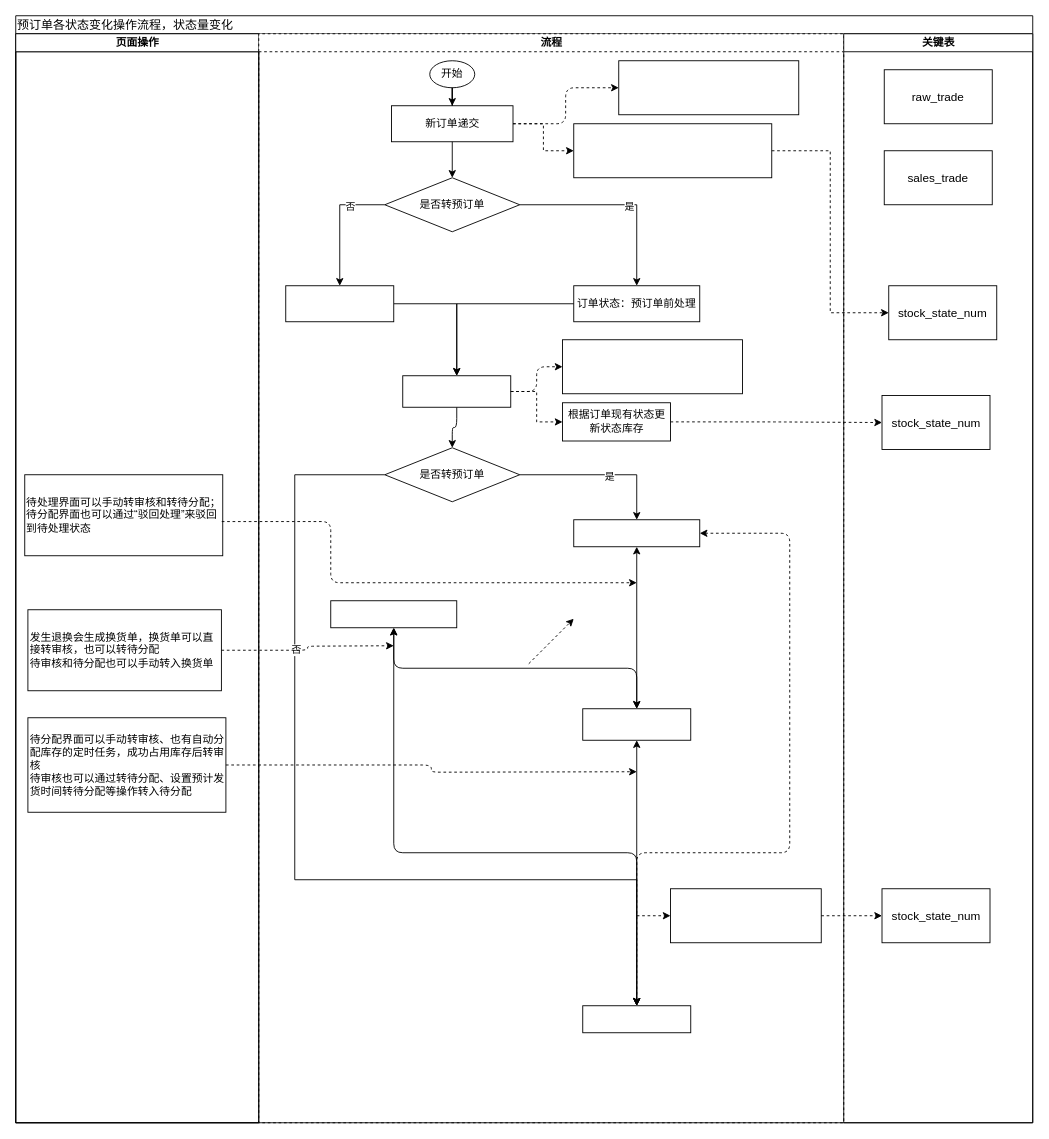
Image size: 1049x1139. Some labels were removed from this diagram. The shapes that lost their labels are listed below. From the top down, each one's centre as x and y in pixels, then its label:
At point (708, 87): "新订单递交中可以选择转预订单 比如设置订单状态、库存不足转预订单".
At point (672, 150): "如果新订单递交后有仓库，并且不是导入的订单和现款销售的订单，则增加对应状态库存，预订单增加预订单的，其余的增加待审核的".
At point (339, 303): "订单状态： 前处理 ( 赠品，合并，拆分 )".
At point (652, 366): "递交后处理也可以选择转预订单 比如设置订单状态、库存不足转预订单、按周期送时间拆分".
At point (456, 391): "递交后处理".
At point (636, 533): "订单状态：待处理预订单".
At point (393, 614): "订单状态：换货单".
At point (636, 724): "订单状态：待分配".
At point (745, 915): "所有类型的预订单转入待审核，如果有仓库，都会更新状态库存".
At point (636, 1019): "订单状态：待审核".
